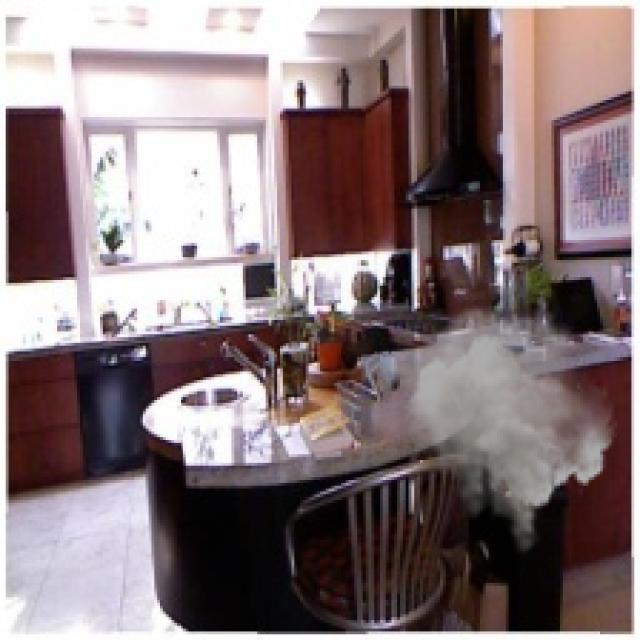smoke: (374, 300, 617, 557)
